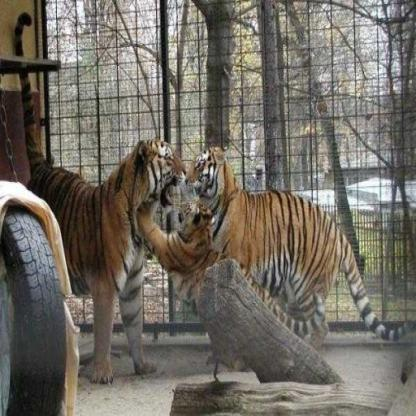Tiger: (179, 150, 398, 336), (58, 126, 170, 350)
